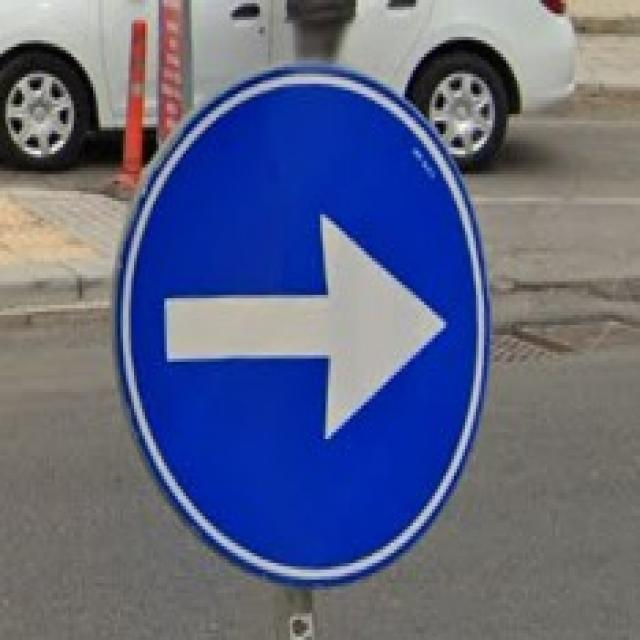Turn Right: (119, 65, 488, 598)
